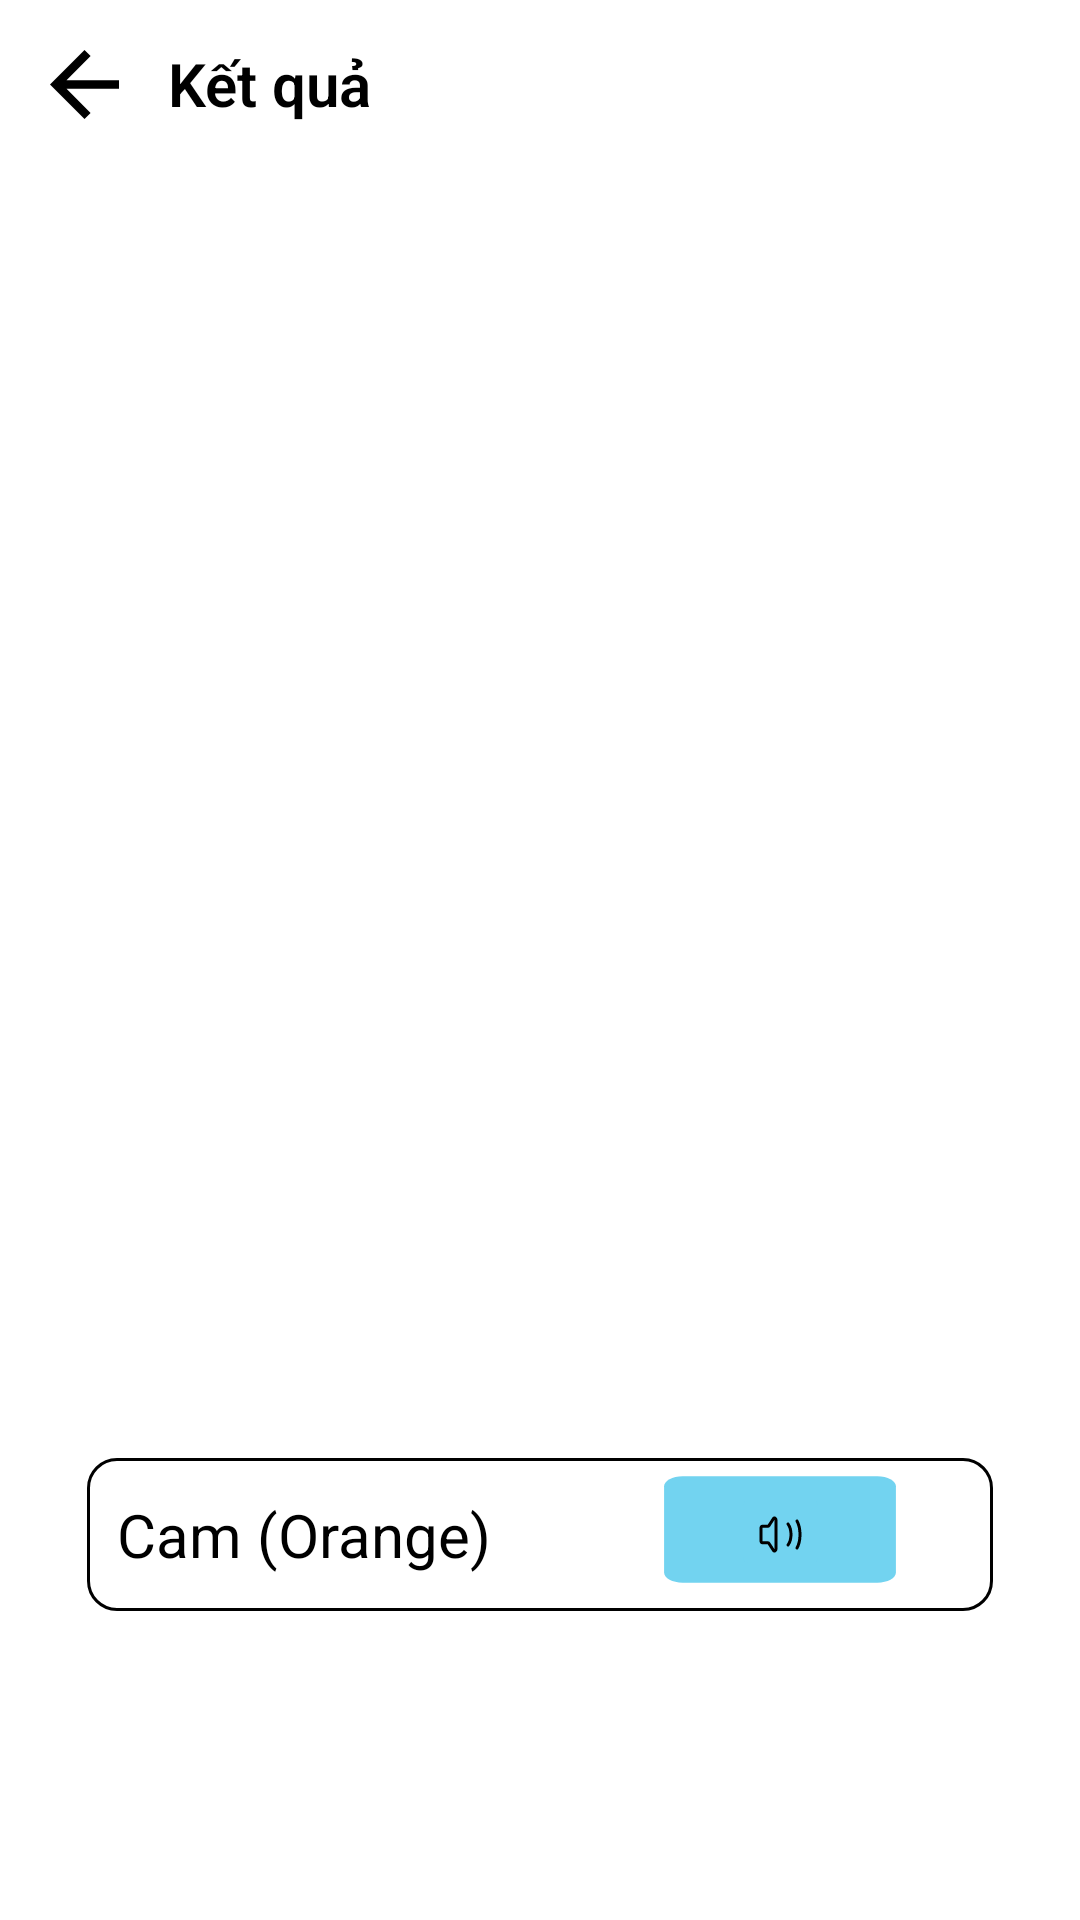

Point at icon controls on the screen. Image size 1080x1920, points as [x,y].
back: [84,84]
sound: [780,1529]
